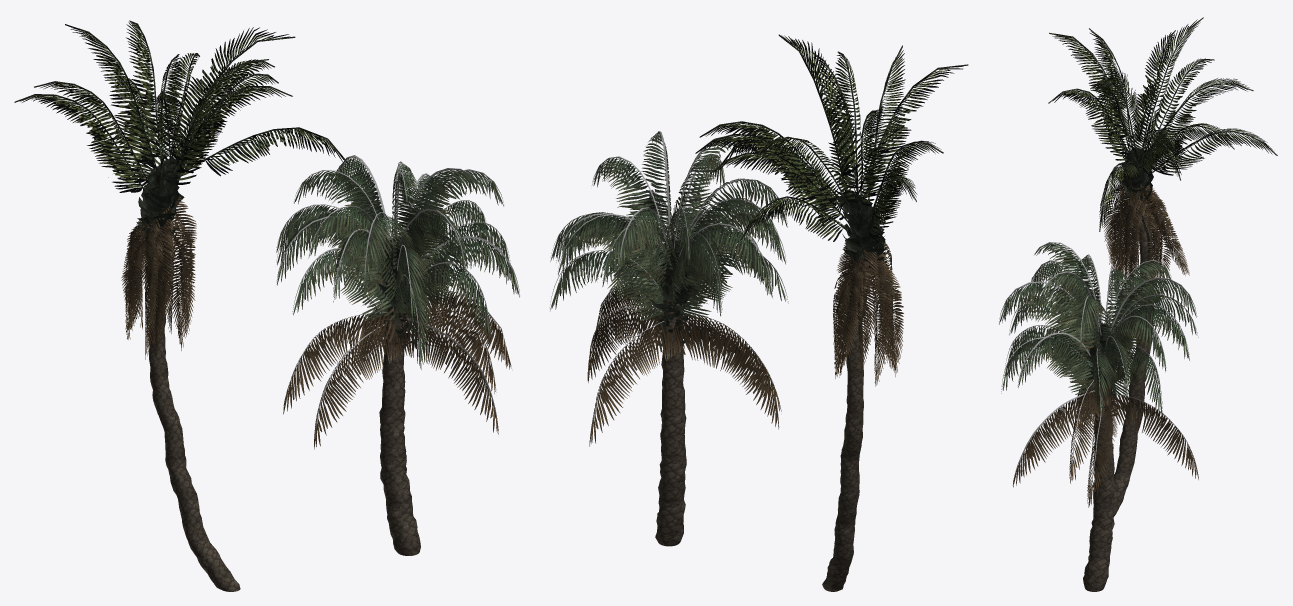
Rendered from palm_trees.obj.
3 renders of one model, left to right at view 1: azimuth 30°, elevation 25°; view 2: azimuth 150°, elevation 25°; view 3: azimuth 270°, elevation 25°, orthographic. The views are drawn at different scales.
Visible parts, largest first — view 1: Palm_tree_001_v2_M_frond_02_inst_Inst_0, Palm_tree_002_v2_M_frond_03_inst_Inst1_0, Palm_tree_001_v2_M_frond_01_inst_0, Palm_tree_002_v2_M_frond_01_inst.1_0, Palm_tree_002_v2_M_palm_bark_01.1_0, Palm_tree_001_v2_M_palm_bark_01_0, Palm_tree_001_v2_M_palm_bark_02_0, Palm_tree_002_v2_M_palm_bark_02.1_0, Palm_tree_002_v2_M_bark_hair_inst.1_0, Palm_tree_001_v2_M_bark_hair_inst_0; view 2: Palm_tree_001_v2_M_frond_02_inst_Inst_0, Palm_tree_002_v2_M_frond_03_inst_Inst1_0, Palm_tree_001_v2_M_frond_01_inst_0, Palm_tree_002_v2_M_frond_01_inst.1_0, Palm_tree_001_v2_M_palm_bark_01_0, Palm_tree_002_v2_M_palm_bark_01.1_0, Palm_tree_001_v2_M_palm_bark_02_0, Palm_tree_002_v2_M_palm_bark_02.1_0, Palm_tree_002_v2_M_bark_hair_inst.1_0, Palm_tree_001_v2_M_bark_hair_inst_0; view 3: Palm_tree_001_v2_M_frond_02_inst_Inst_0, Palm_tree_002_v2_M_frond_03_inst_Inst1_0, Palm_tree_001_v2_M_frond_01_inst_0, Palm_tree_002_v2_M_frond_01_inst.1_0, Palm_tree_001_v2_M_palm_bark_01_0, Palm_tree_001_v2_M_palm_bark_02_0, Palm_tree_002_v2_M_palm_bark_01.1_0, Palm_tree_002_v2_M_palm_bark_02.1_0, Palm_tree_002_v2_M_bark_hair_inst.1_0, Palm_tree_001_v2_M_bark_hair_inst_0.
Part boxes in pixels (left/top/right/bottom): Palm_tree_001_v2_M_frond_02_inst_Inst_0: left=276, top=157, right=519, bottom=369; Palm_tree_002_v2_M_frond_03_inst_Inst1_0: left=16, top=21, right=344, bottom=192; Palm_tree_001_v2_M_frond_01_inst_0: left=283, top=291, right=511, bottom=449; Palm_tree_002_v2_M_frond_01_inst.1_0: left=121, top=197, right=196, bottom=359; Palm_tree_002_v2_M_palm_bark_01.1_0: left=148, top=230, right=240, bottom=591; Palm_tree_001_v2_M_palm_bark_01_0: left=379, top=301, right=420, bottom=555; Palm_tree_001_v2_M_palm_bark_02_0: left=276, top=155, right=519, bottom=445; Palm_tree_002_v2_M_palm_bark_02.1_0: left=14, top=20, right=348, bottom=190; Palm_tree_002_v2_M_bark_hair_inst.1_0: left=136, top=157, right=184, bottom=235; Palm_tree_001_v2_M_bark_hair_inst_0: left=367, top=238, right=418, bottom=347; Palm_tree_001_v2_M_frond_02_inst_Inst_0: left=550, top=132, right=787, bottom=320; Palm_tree_002_v2_M_frond_03_inst_Inst1_0: left=700, top=35, right=963, bottom=242; Palm_tree_001_v2_M_frond_01_inst_0: left=587, top=281, right=781, bottom=446; Palm_tree_002_v2_M_frond_01_inst.1_0: left=833, top=227, right=903, bottom=386; Palm_tree_001_v2_M_palm_bark_01_0: left=655, top=297, right=686, bottom=546; Palm_tree_002_v2_M_palm_bark_01.1_0: left=822, top=262, right=868, bottom=591; Palm_tree_001_v2_M_palm_bark_02_0: left=549, top=131, right=788, bottom=441; Palm_tree_002_v2_M_palm_bark_02.1_0: left=695, top=34, right=968, bottom=240; Palm_tree_002_v2_M_bark_hair_inst.1_0: left=838, top=192, right=885, bottom=268; Palm_tree_001_v2_M_bark_hair_inst_0: left=649, top=238, right=697, bottom=354; Palm_tree_001_v2_M_frond_02_inst_Inst_0: left=999, top=242, right=1196, bottom=416; Palm_tree_002_v2_M_frond_03_inst_Inst1_0: left=1050, top=19, right=1275, bottom=227; Palm_tree_001_v2_M_frond_01_inst_0: left=1013, top=378, right=1198, bottom=507; Palm_tree_002_v2_M_frond_01_inst.1_0: left=1103, top=177, right=1189, bottom=297; Palm_tree_001_v2_M_palm_bark_01_0: left=1083, top=367, right=1114, bottom=591; Palm_tree_001_v2_M_palm_bark_02_0: left=999, top=242, right=1198, bottom=504; Palm_tree_002_v2_M_palm_bark_01.1_0: left=1113, top=167, right=1154, bottom=516; Palm_tree_002_v2_M_palm_bark_02.1_0: left=1048, top=17, right=1277, bottom=231; Palm_tree_002_v2_M_bark_hair_inst.1_0: left=1117, top=148, right=1153, bottom=204; Palm_tree_001_v2_M_bark_hair_inst_0: left=1084, top=324, right=1124, bottom=416.
Size of the model in its own units: 1990 by 2452 by 1326.
Materials: 10 (9 with a texture image).
